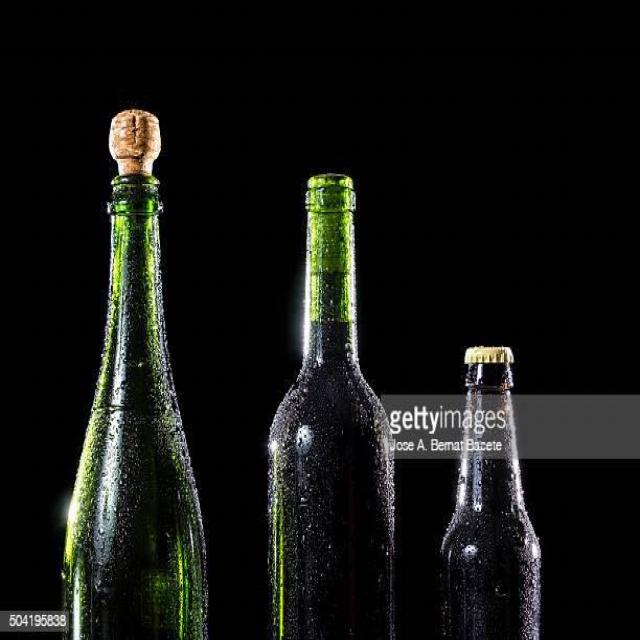non-organic waste: (60, 97, 214, 640), (271, 153, 401, 640), (432, 323, 550, 640)
